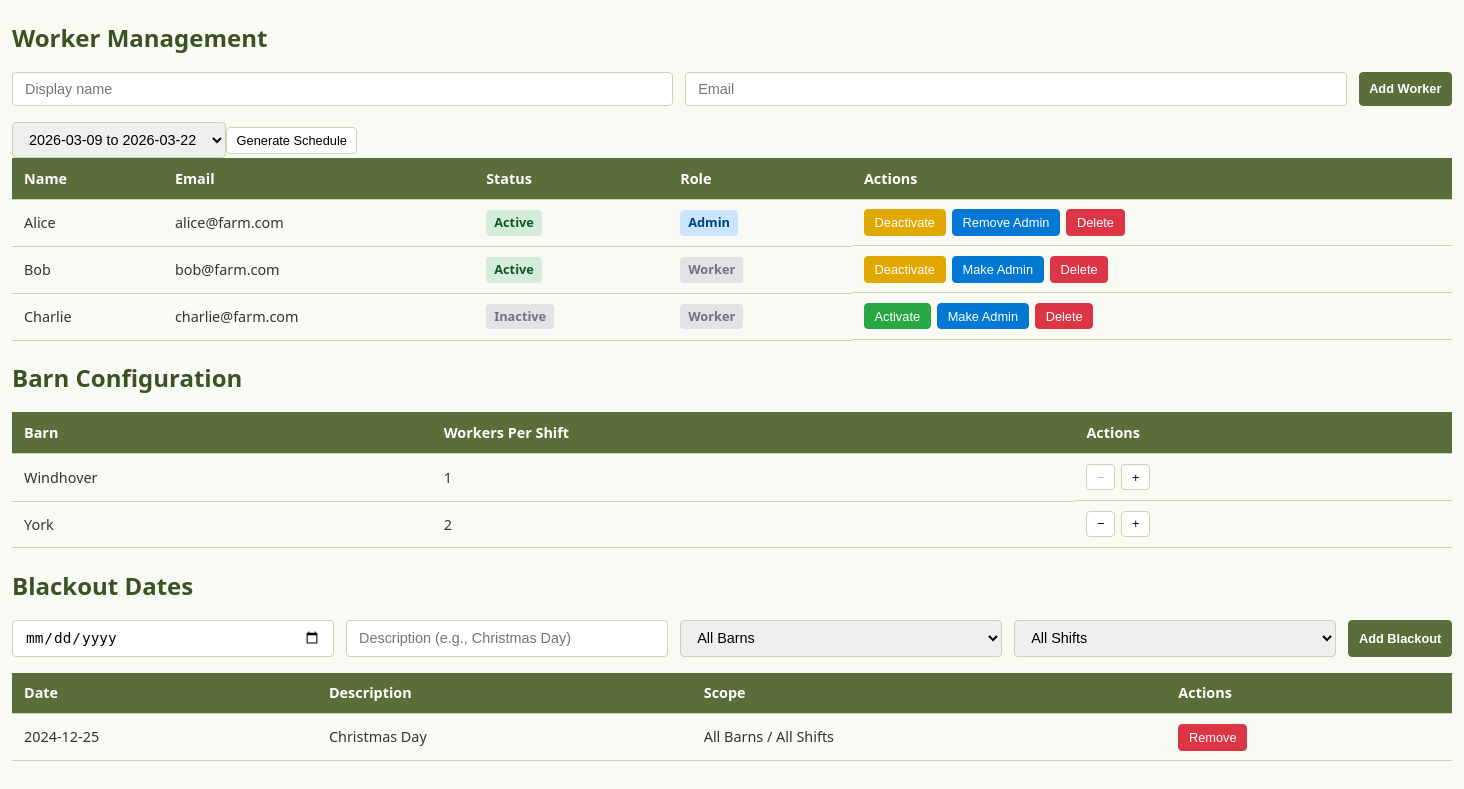
AdminPage › shows error when schedule generation fails
This screenshot has width=1464, height=789.
Expected: the text "Alice" is shown, [12,199,163,246]
Click the button "Generate Schedule".
click(292, 140)  # box [226,127,358,154]
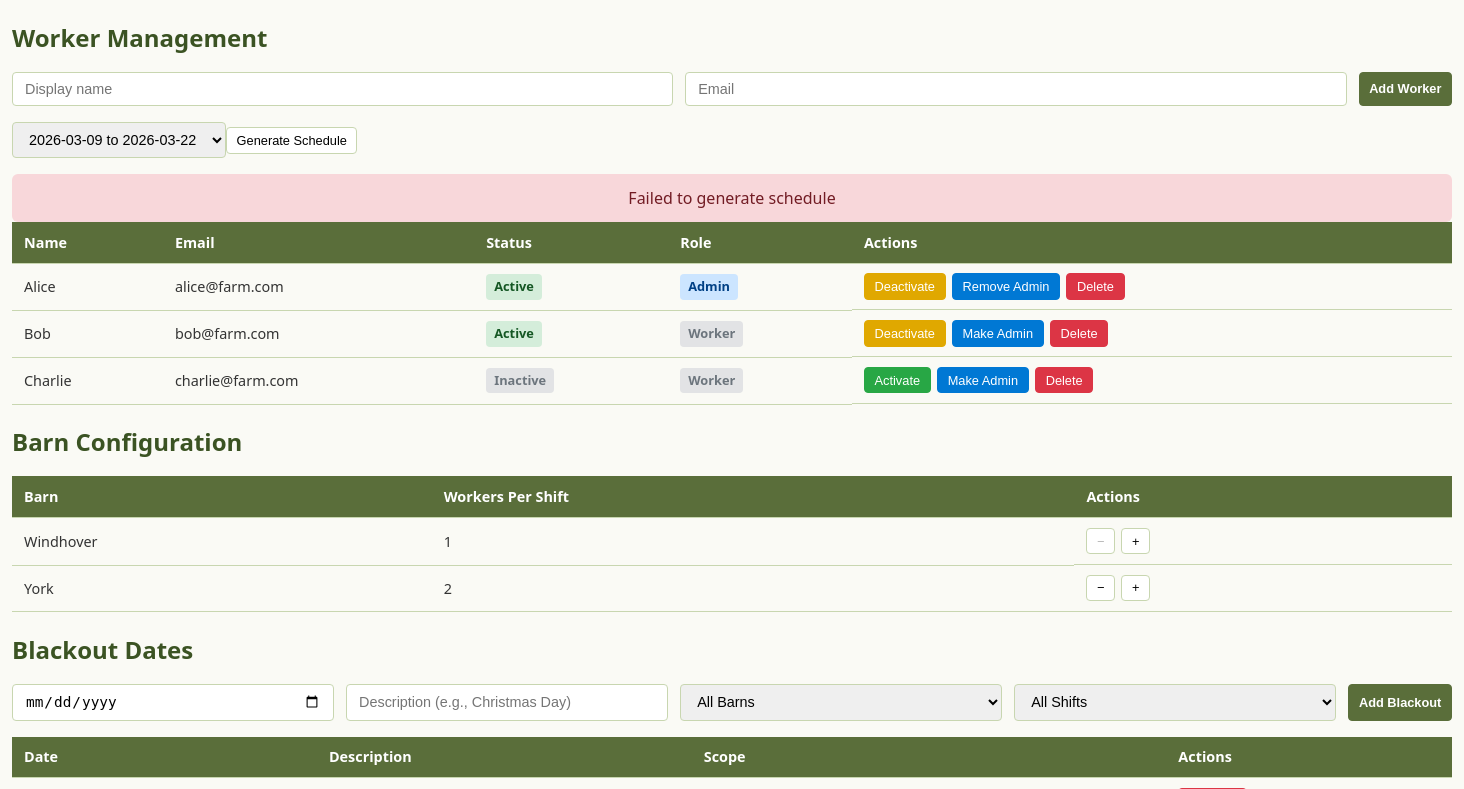
Result: the text "Failed to generate schedule" is shown at [12,174,1452,222]
